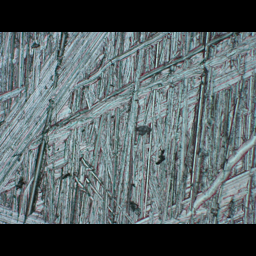d: (4, 32, 255, 224)
